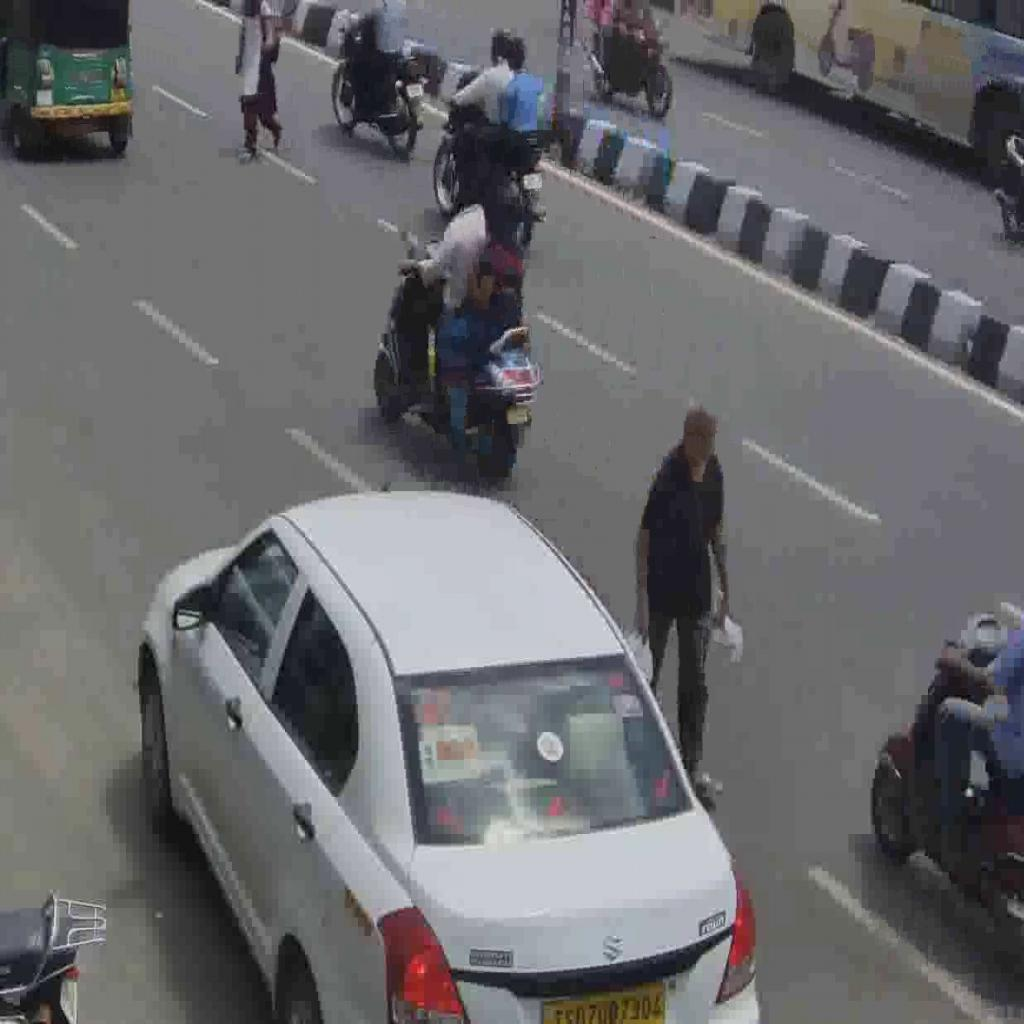helmet: (372, 237, 536, 473), (434, 84, 549, 221), (334, 36, 430, 148)
